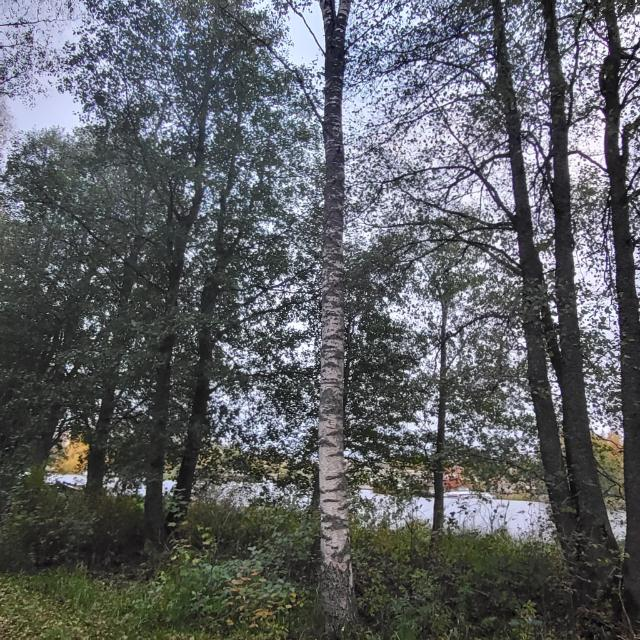birch: (265, 0, 413, 640)
